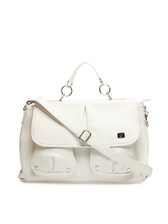bag: (8, 59, 157, 186)
